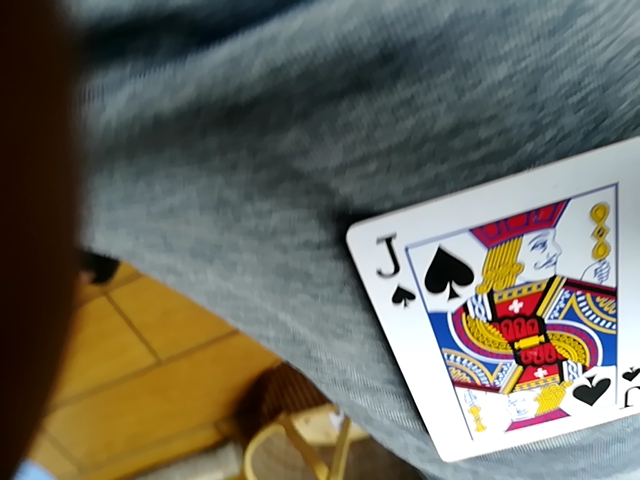ht j: (341, 140, 638, 467)
